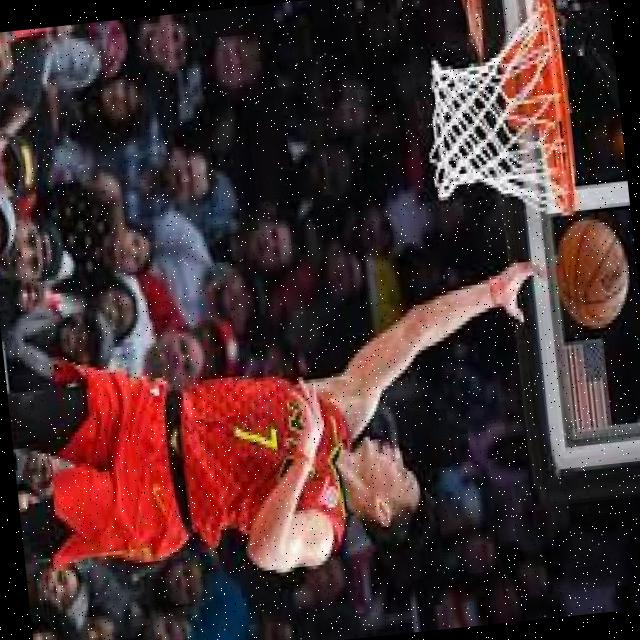ball: (550, 216, 630, 329)
hoop: (530, 0, 580, 218)
